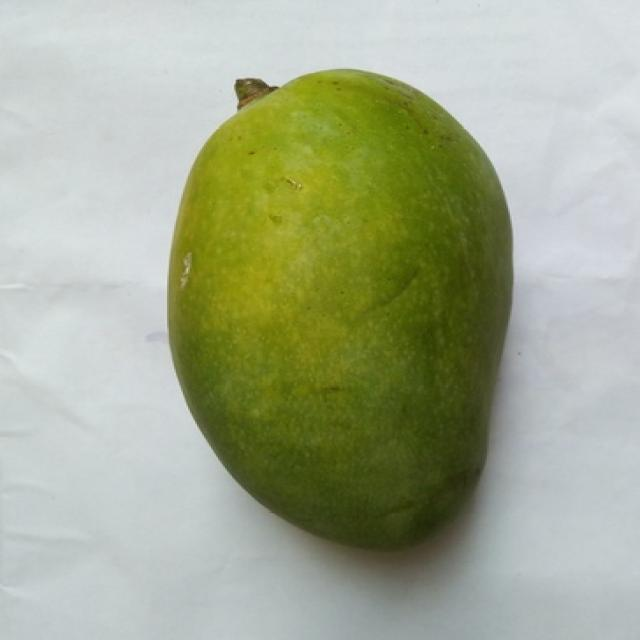Mango: (167, 70, 510, 549)
